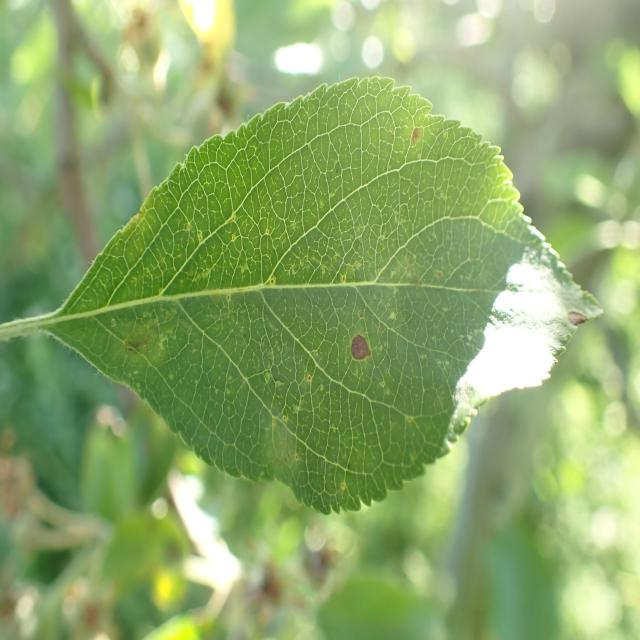frog-eye-leaf-spot: (59, 73, 605, 514)
